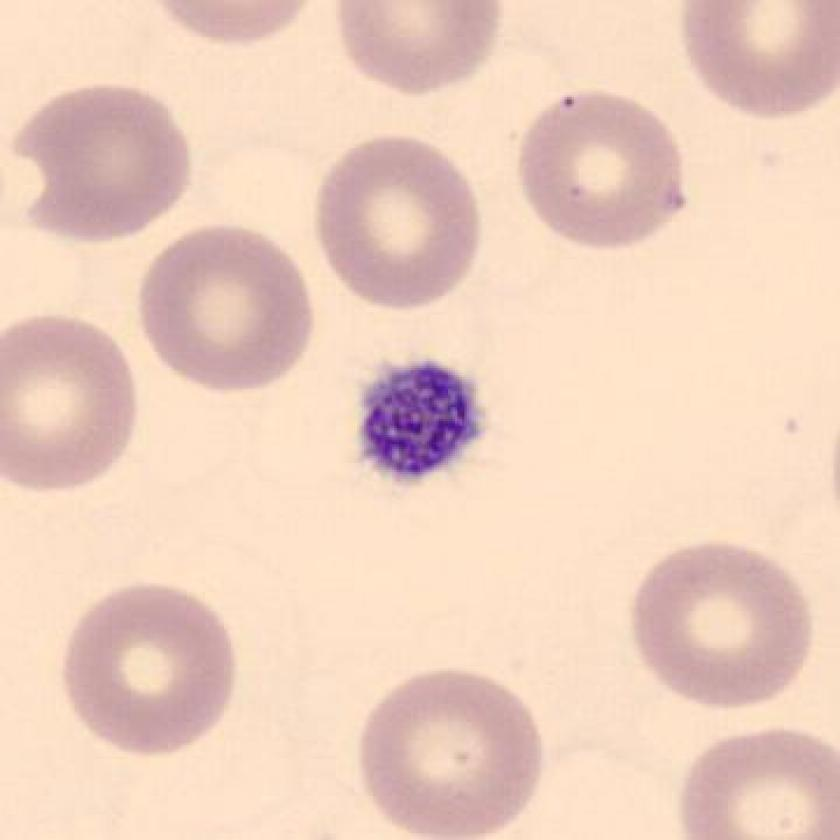platelets: (349, 355, 493, 499)
